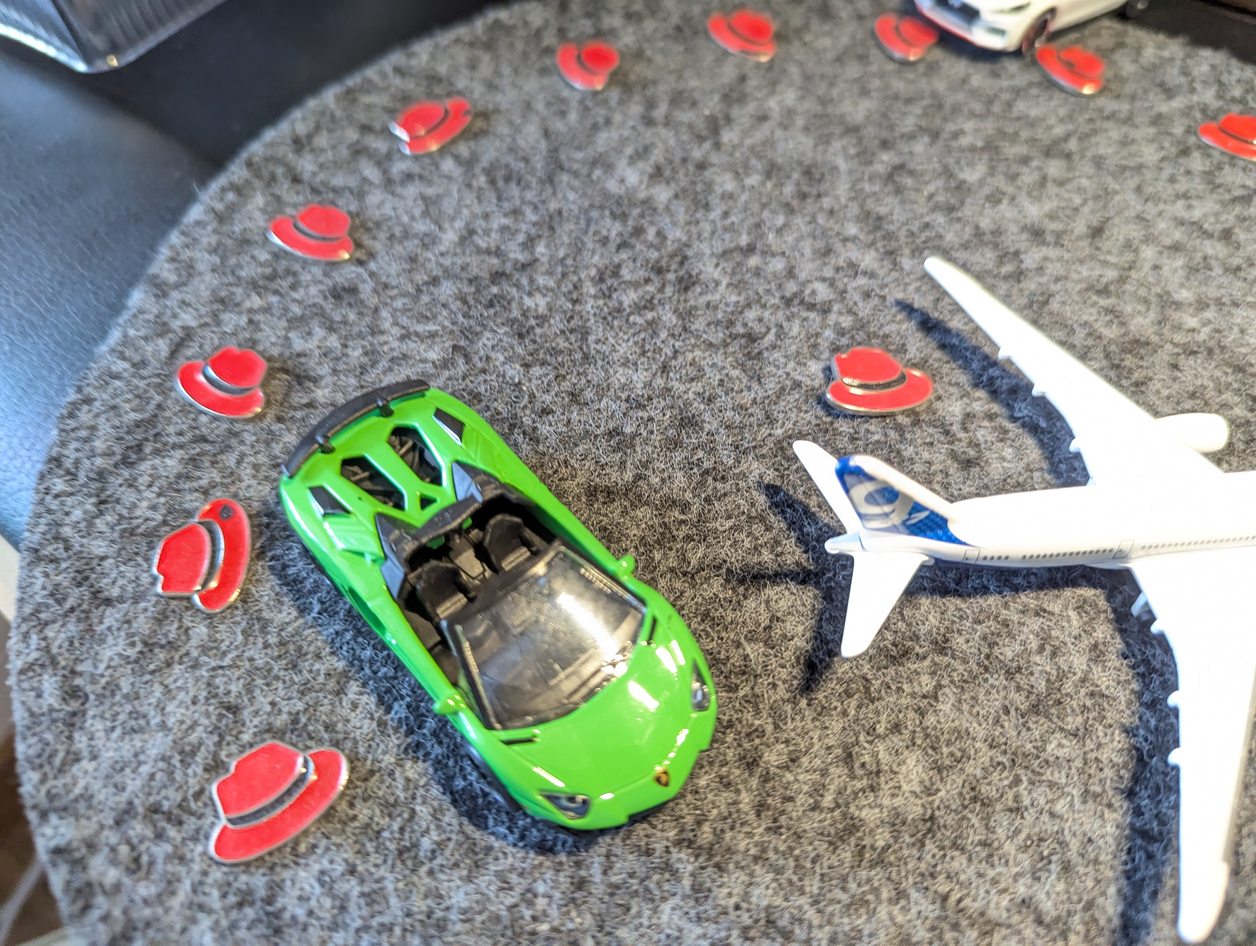Airplane: (740, 235, 1256, 946)
Car: (268, 357, 756, 842), (906, 0, 1156, 71), (321, 407, 325, 408)
Red-Hat: (188, 732, 377, 883), (137, 470, 283, 622), (811, 338, 964, 428), (163, 329, 278, 431), (258, 189, 367, 270), (379, 84, 478, 162), (539, 29, 635, 104), (858, 1, 946, 68), (1024, 36, 1110, 104), (697, 3, 787, 67), (1186, 91, 1256, 166)
Scratch: (725, 38, 783, 71), (207, 485, 246, 534), (456, 98, 485, 136), (1055, 52, 1086, 72)
